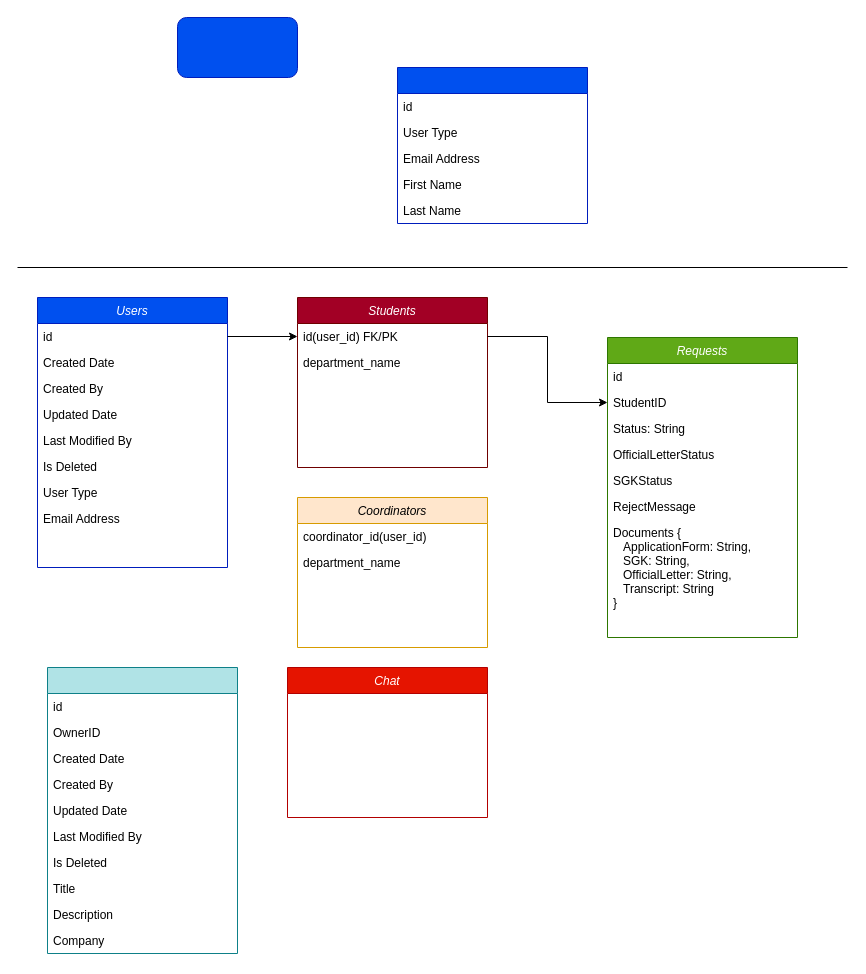
Some shapes in this 866 by 974 pixel diagram are drawn without their labels. Here are the shapes that lost their labels. From the top down, the box of each, then its label:
(176, 16, 298, 78): 3rd party
(396, 66, 588, 224): OBS Users
(46, 666, 238, 954): Announcements
